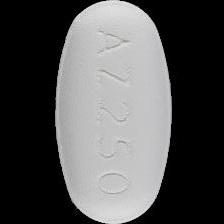60505-2581: (0, 0, 224, 224)
